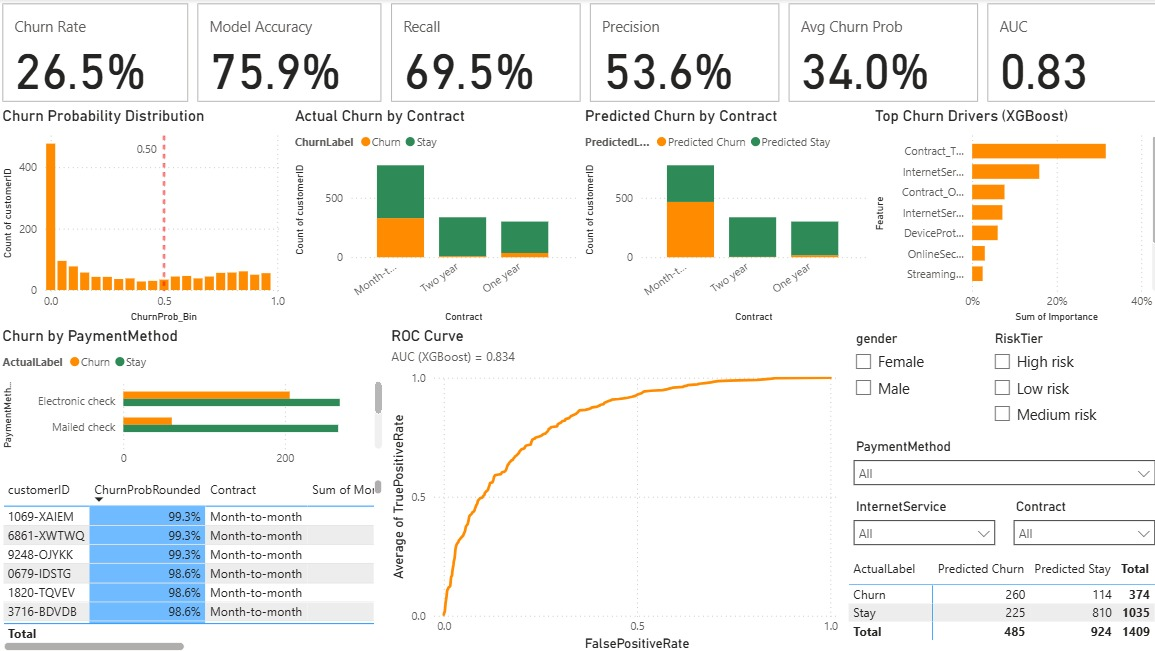

The page's visual inventory and layout, read from the dashboard file:
{"tool":"powerbi","page":{"name":"Page 1","canvas":[1280,720],"ordinal":0},"visuals":[{"type":"slicer","fields":{"Values":["churn_predictions_full.PaymentMethod"]},"box":[929,477.5,351.3,65.9],"z":0},{"type":"slicer","fields":{"Values":["churn_predictions_full.gender"]},"box":[929,359.5,152.3,118],"z":1000},{"type":"slicer","fields":{"Values":["churn_predictions_full.RiskTier"]},"box":[1081.3,359.5,199,118],"z":2000},{"type":"slicer","fields":{"Values":["churn_predictions_full.Contract"]},"box":[1104.6,543.4,175.6,65.9],"z":3000},{"type":"slicer","fields":{"Values":["churn_predictions_full.InternetService"]},"box":[929,543.4,175.6,65.9],"z":4000},{"type":"cardVisual","fields":{"Data":["churn_predictions_full.ChurnRate"]},"box":[0,0,214.1,118],"z":5000},{"type":"cardVisual","fields":{"Data":["churn_predictions_full.Accuracy"]},"box":[214.1,0,212.7,118],"z":6000},{"type":"cardVisual","fields":{"Data":["churn_predictions_full.Recall"]},"box":[426.8,0,218.2,118],"z":7000},{"type":"cardVisual","fields":{"Data":["churn_predictions_full.Precision"]},"box":[644.9,0,218.2,118],"z":8000},{"type":"cardVisual","fields":{"Data":["churn_predictions_full.AvgChurnProbability"]},"box":[863.1,0,218.2,118],"z":9000},{"type":"clusteredColumnChart","title":"Churn Probability Distribution","fields":{"Category":["churn_predictions_full.ChurnProb_Bin"],"Y":["CountNonNull(churn_predictions_full.customerID)"]},"box":[0,118,321.1,241.5],"z":10000},{"type":"columnChart","title":"Predicted Churn by Contract","fields":{"Category":["churn_predictions_full.Contract"],"Series":["churn_predictions_full.PredictedLabelText"],"Y":["CountNonNull(churn_predictions_full.customerID)"]},"box":[639.5,118,318.4,241.5],"z":11000},{"type":"columnChart","title":"Actual Churn by Contract","fields":{"Y":["CountNonNull(churn_predictions_full.customerID)"],"Series":["churn_predictions_full.ChurnLabel"],"Category":["churn_predictions_full.Contract"]},"box":[321.1,118,318.4,241.5],"z":12000},{"type":"barChart","title":"Top Churn Drivers (XGBoost)","fields":{"Category":["feature_importance.Feature"],"Y":["Sum(feature_importance.Importance)"]},"box":[957.8,118,322.5,241.5],"z":13000},{"type":"pivotTable","fields":{"Rows":["churn_predictions_full.ActualLabel"],"Values":["CountNonNull(churn_predictions_full.customerID)"],"Columns":["churn_predictions_full.PredictedLabelText"]},"box":[929,609.3,351.3,111.1],"z":14000},{"type":"lineChart","title":"ROC Curve","fields":{"Category":["roc_curve.FalsePositiveRate"],"Y":["Avg(roc_curve.TruePositiveRate)"]},"box":[426.8,359.5,502.2,360.9],"z":15000},{"type":"cardVisual","fields":{"Data":["Sum(auc_value.Value)"]},"box":[1081.3,0,199,118],"z":16000},{"type":"tableEx","fields":{"Values":["churn_predictions_full.customerID","churn_predictions_full.ChurnProbRounded","churn_predictions_full.Contract","Sum(churn_predictions_full.MonthlyCharges)","Sum(churn_predictions_full.tenure)","churn_predictions_full.PaymentMethod","churn_predictions_full.PredLabelText"]},"box":[0,522.8,426.8,197.6],"z":17000},{"type":"clusteredBarChart","title":"Churn by PaymentMethod","fields":{"Category":["churn_predictions_full.PaymentMethod"],"Series":["churn_predictions_full.ActualLabel"],"Y":["CountNonNull(churn_predictions_full.Churn)"]},"box":[0,359.5,426.8,163.3],"z":18000}]}

Visuals, with their boxes in screenshot pixels (x1, y1, x2, y2), scaled from the page's 1280x720 canvas onto the 1155x651 screenshot:
slicer - churn_predictions_full.PaymentMethod: left=838, top=432, right=1154, bottom=491
slicer - churn_predictions_full.gender: left=838, top=325, right=976, bottom=432
slicer - churn_predictions_full.RiskTier: left=976, top=325, right=1154, bottom=432
slicer - churn_predictions_full.Contract: left=997, top=491, right=1154, bottom=551
slicer - churn_predictions_full.InternetService: left=838, top=491, right=997, bottom=551
cardVisual - churn_predictions_full.ChurnRate: left=0, top=0, right=193, bottom=107
cardVisual - churn_predictions_full.Accuracy: left=193, top=0, right=385, bottom=107
cardVisual - churn_predictions_full.Recall: left=385, top=0, right=582, bottom=107
cardVisual - churn_predictions_full.Precision: left=582, top=0, right=779, bottom=107
cardVisual - churn_predictions_full.AvgChurnProbability: left=779, top=0, right=976, bottom=107
"Churn Probability Distribution" clusteredColumnChart: left=0, top=107, right=290, bottom=325
"Predicted Churn by Contract" columnChart: left=577, top=107, right=864, bottom=325
"Actual Churn by Contract" columnChart: left=290, top=107, right=577, bottom=325
"Top Churn Drivers (XGBoost)" barChart: left=864, top=107, right=1154, bottom=325
pivotTable - churn_predictions_full.ActualLabel x CountNonNull(churn_predictions_full.customerID): left=838, top=551, right=1154, bottom=650
"ROC Curve" lineChart: left=385, top=325, right=838, bottom=650
cardVisual - Sum(auc_value.Value): left=976, top=0, right=1154, bottom=107
tableEx - churn_predictions_full.customerID x churn_predictions_full.ChurnProbRounded: left=0, top=473, right=385, bottom=650
"Churn by PaymentMethod" clusteredBarChart: left=0, top=325, right=385, bottom=473
